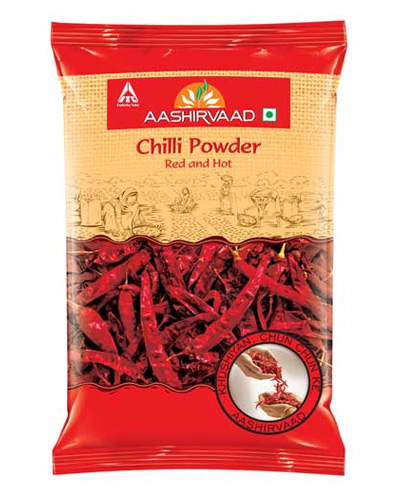VEG: (261, 105, 279, 124)
